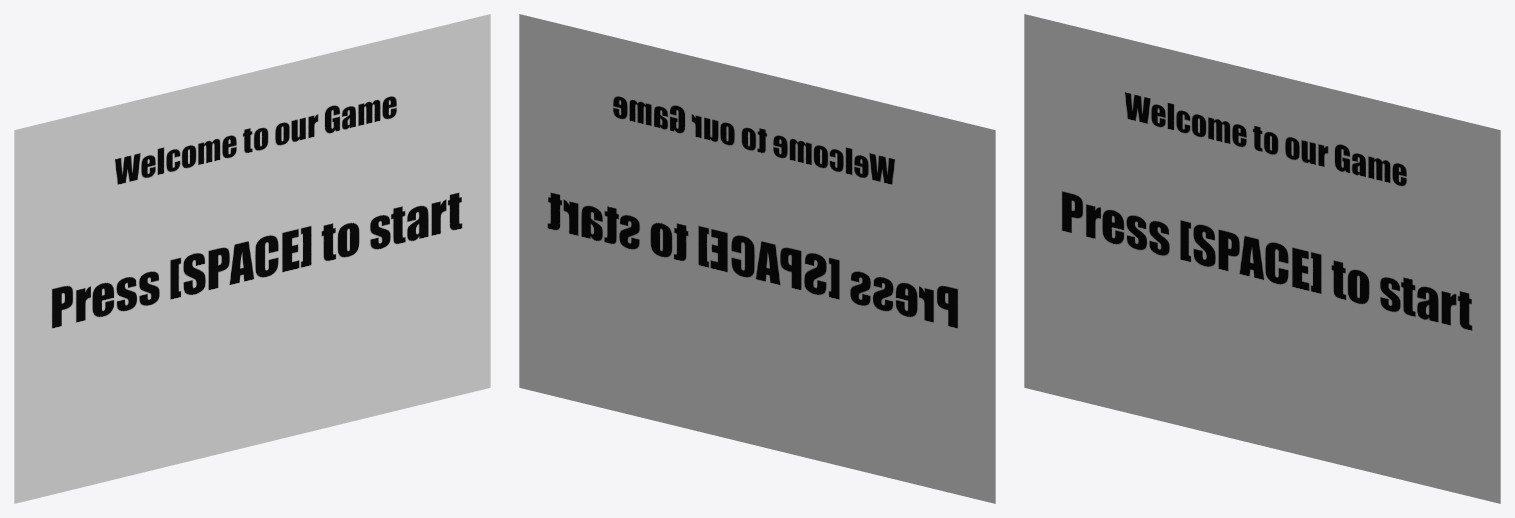
The model's file is startmenu.obj.
3 views of the same model, side by side, from view 1: azimuth 30°, elevation 25°; view 2: azimuth 150°, elevation 25°; view 3: azimuth 330°, elevation 25° (orthographic).
Visible parts, largest first — view 1: Ebene; view 2: Ebene; view 3: Ebene.
Boxes of the visible parts, x1,y1,x2,y2 form: Ebene: (14, 14, 490, 503); Ebene: (519, 14, 995, 503); Ebene: (1024, 14, 1500, 503).
Size of the model in its own units: 800 by 600 by 4e-14.
